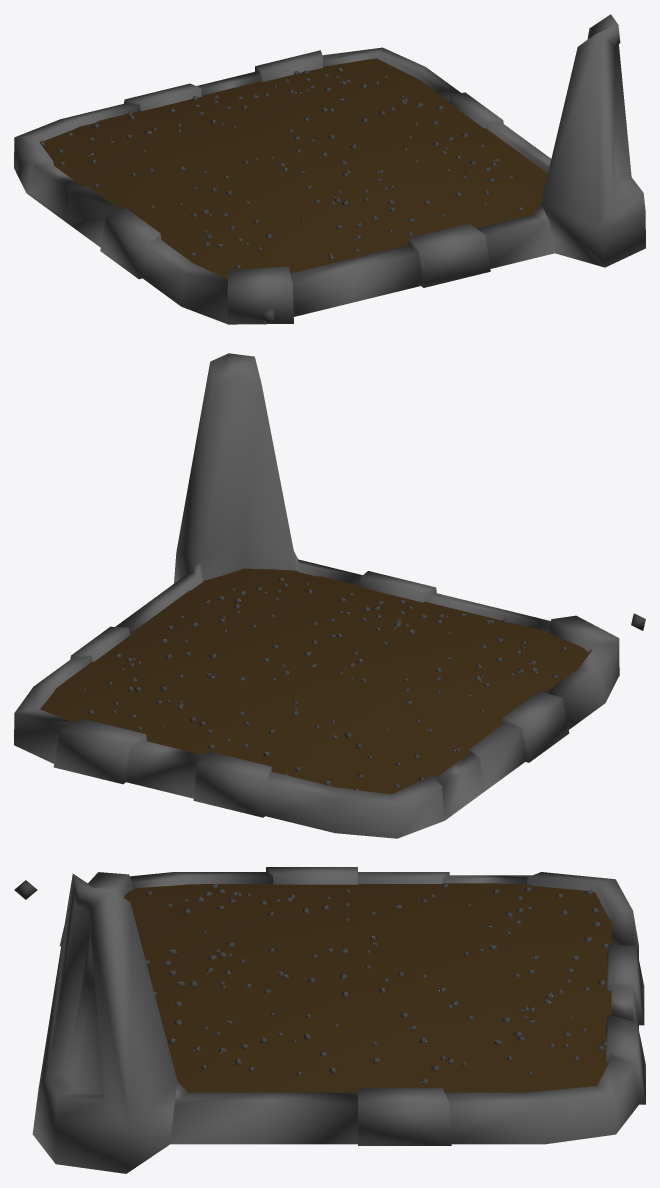
Rendered from farm_plot.glb.
The picture shows the model from 3 angles, top to bottom: view 1: azimuth 30°, elevation 25°; view 2: azimuth 150°, elevation 25°; view 3: azimuth 270°, elevation 25°; orthographic projection. The views are drawn at different scales.
Parts seen in each view (by area): view 1: Dirt-col, PlotBase-noimp; view 2: Dirt-col, PlotBase-noimp; view 3: Dirt-col, PlotBase-noimp.
Boxes of the visible parts, x1,y1,x2,y2 form: Dirt-col: (42, 58, 547, 279); PlotBase-noimp: (14, 14, 645, 324); Dirt-col: (40, 568, 591, 794); PlotBase-noimp: (14, 353, 619, 838); Dirt-col: (123, 883, 611, 1092); PlotBase-noimp: (32, 867, 645, 1173).
Bounding box in the file's own units: 5.44 × 2.62 × 5.62.
